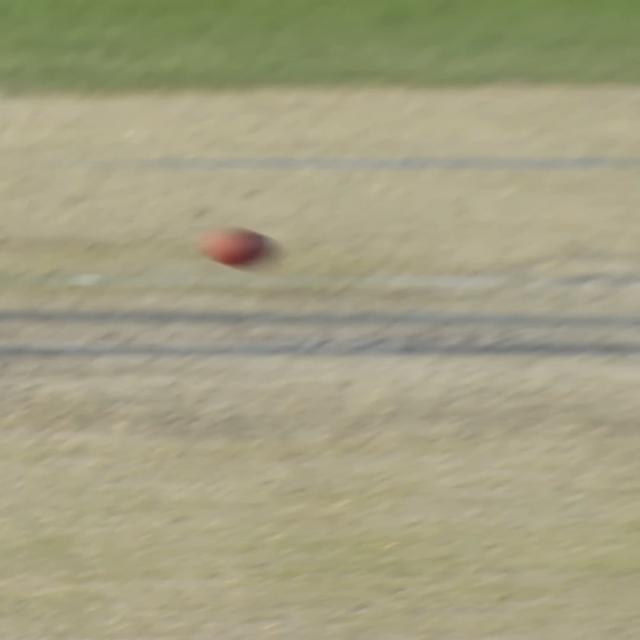Cricket ball: (197, 225, 283, 273)
